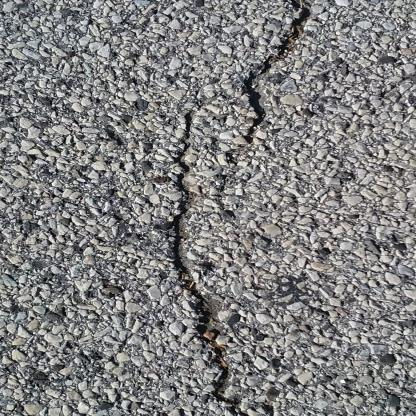Cracks: (166, 108, 263, 416), (242, 0, 317, 145)
